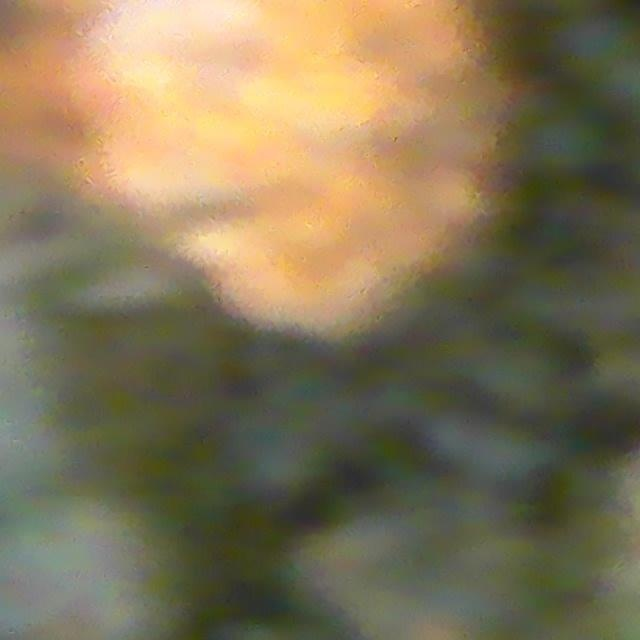SeaGrape: (521, 103, 607, 180)
